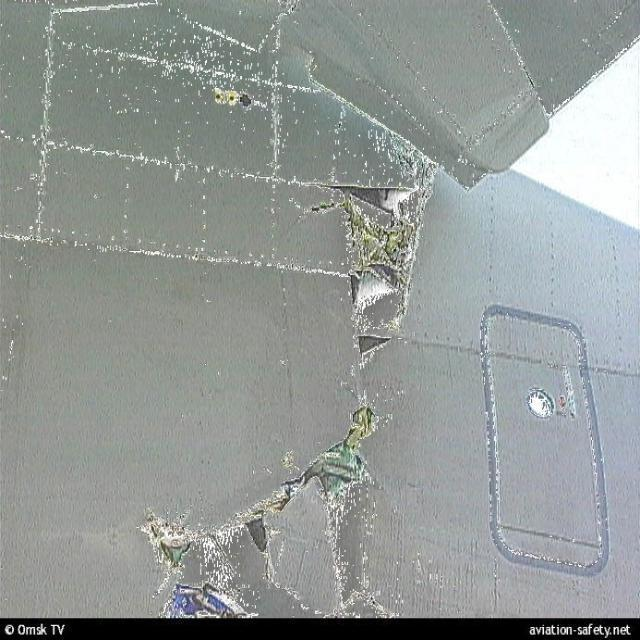crack: (138, 159, 444, 598)
